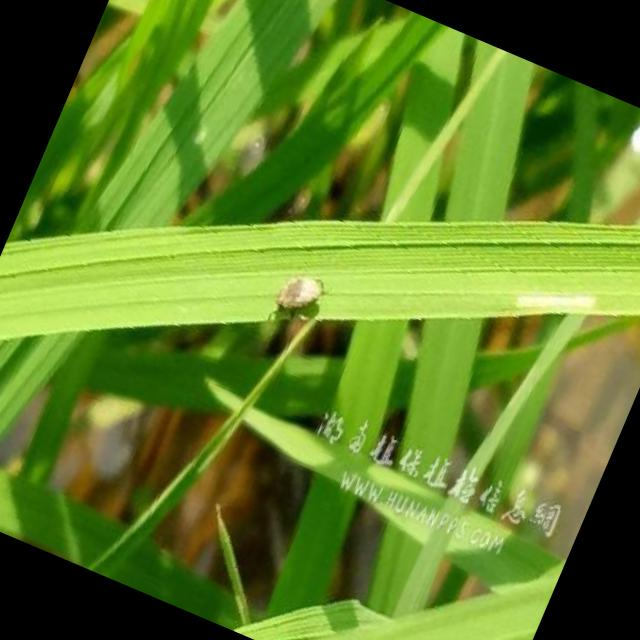rice-bug: (266, 262, 332, 335)
